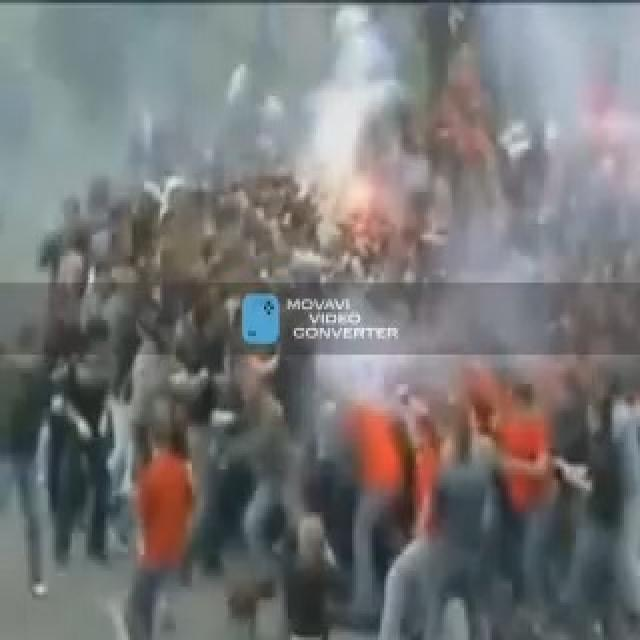non-voilence: (2, 13, 638, 638), (238, 290, 280, 346)
